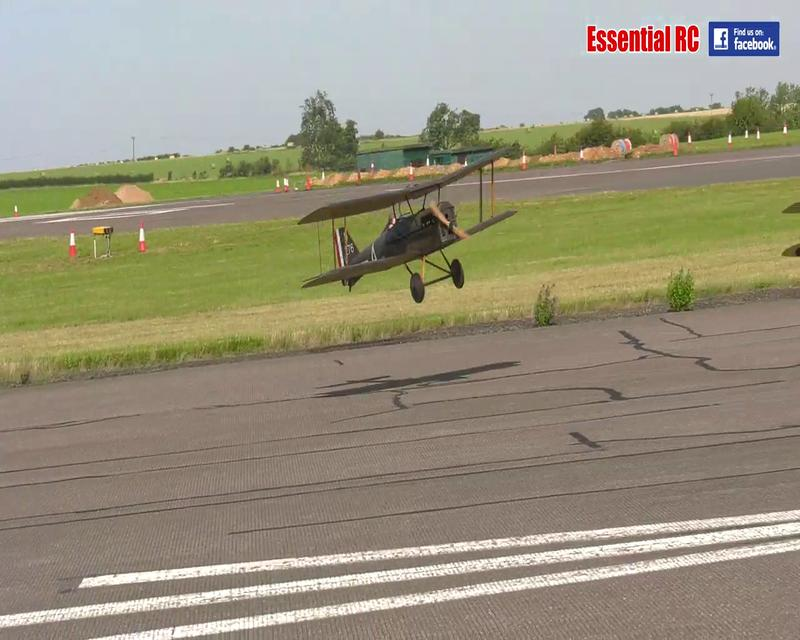UAV: (297, 147, 519, 302)
